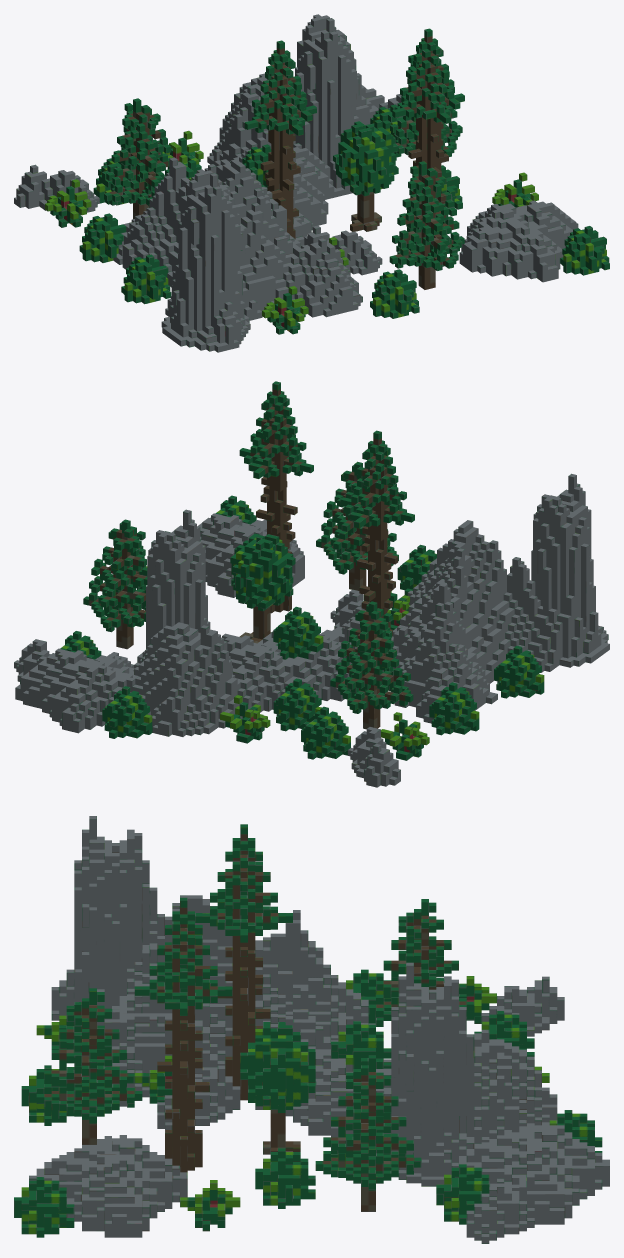
Rendered from big_rocks_1_overtile.glb.
3 renders of one model, top to bottom at view 1: azimuth 30°, elevation 25°; view 2: azimuth 150°, elevation 25°; view 3: azimuth 270°, elevation 25°, orthographic. The views are drawn at different scales.
Visible parts, largest first — view 1: big_rocks_1_overtile; view 2: big_rocks_1_overtile; view 3: big_rocks_1_overtile.
Boxes of the visible parts, x1,y1,x2,y2 form: big_rocks_1_overtile: (14,14,609,352); big_rocks_1_overtile: (14,381,609,787); big_rocks_1_overtile: (14,816,609,1243).
Size of the model in its own units: 7.8 by 3.9 by 7.9.
Materials: 1 (1 with a texture image).
